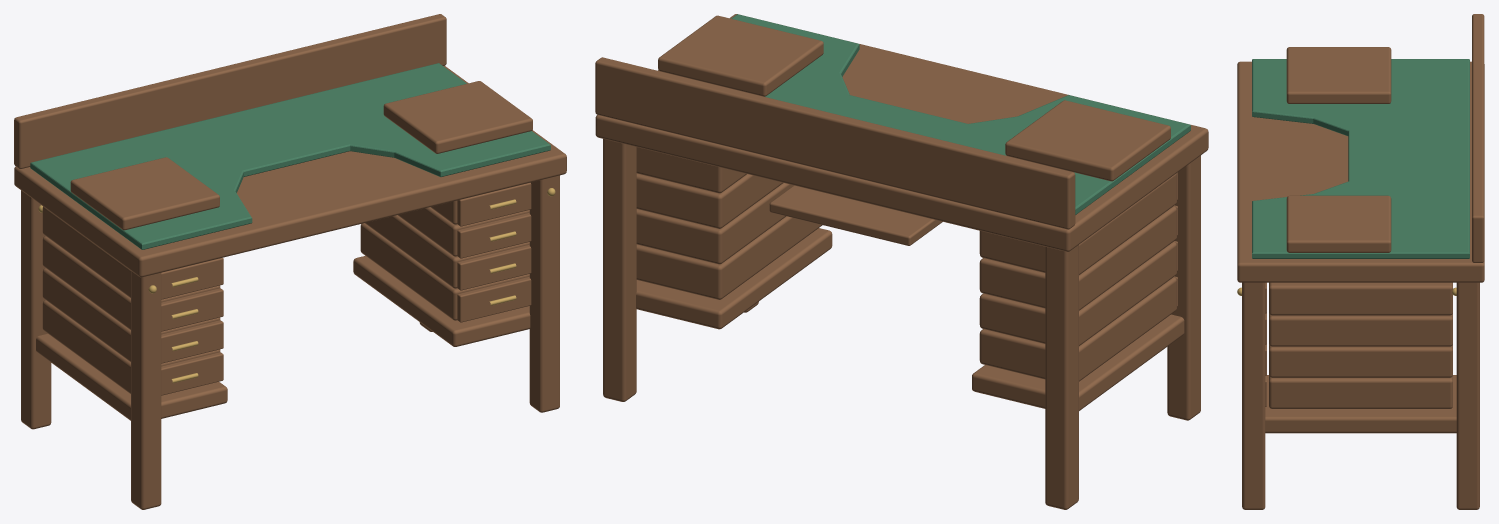
File: clockmaker-and-watch-repair-watchmaker-bench-68b8dd6f__30594.glb
3 views of the same model, side by side, from view 1: azimuth 30°, elevation 25°; view 2: azimuth 150°, elevation 25°; view 3: azimuth 270°, elevation 25° (orthographic). The views are drawn at different scales.
Visible parts, largest first — view 1: watchmaker-bench; view 2: watchmaker-bench; view 3: watchmaker-bench.
Part boxes in pixels (left/top/right/bottom): watchmaker-bench: left=14, top=14, right=566, bottom=509; watchmaker-bench: left=595, top=14, right=1208, bottom=509; watchmaker-bench: left=1237, top=14, right=1484, bottom=509.
Bounding box in the file's own units: 1.75 × 1.19 × 0.9001.
